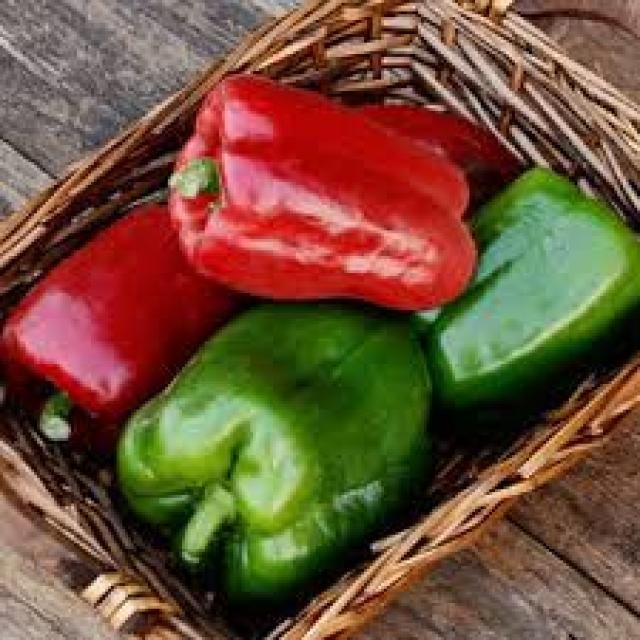bell_pepper: (110, 294, 442, 606), (425, 164, 638, 402)
